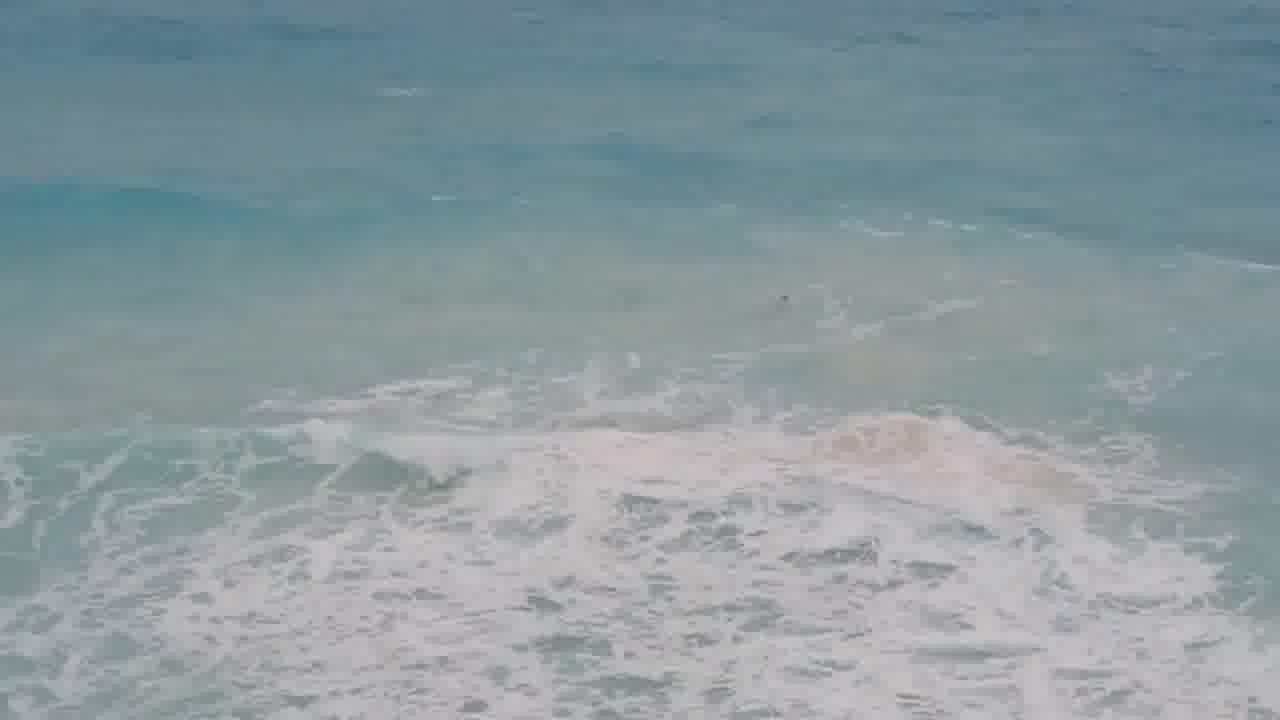swimmer: (766, 282, 801, 320)
